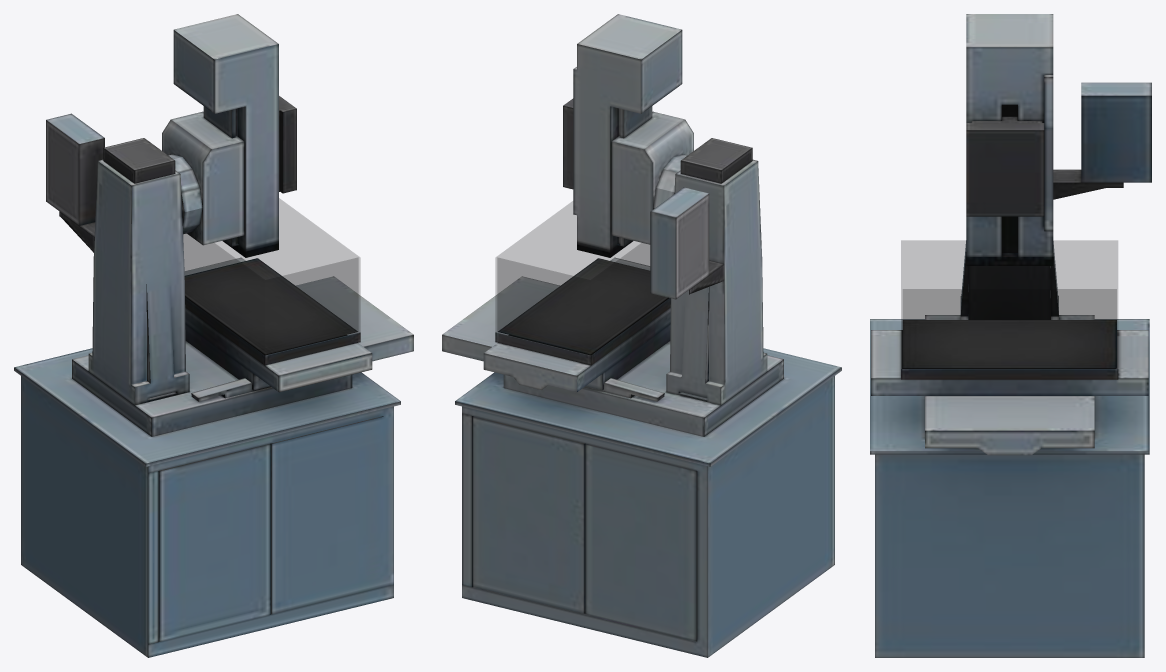
The picture shows the model from 3 angles, left to right: view 1: azimuth 30°, elevation 25°; view 2: azimuth 150°, elevation 25°; view 3: azimuth 270°, elevation 25°; orthographic projection. The views are drawn at different scales.
Parts seen in each view (by area): view 1: xia_3, shang_2, object 1, zhong_4; view 2: xia_3, shang_2, object 1, zhong_4; view 3: xia_3, shang_2, object 1, zhong_4.
Boxes of the visible parts, x1,y1,x2,y2 form: xia_3: (14, 113, 400, 657); shang_2: (72, 14, 413, 436); object 1: (183, 198, 360, 354); zhong_4: (59, 96, 360, 365); xia_3: (455, 187, 841, 657); shang_2: (442, 14, 783, 436); object 1: (495, 201, 668, 354); zhong_4: (495, 98, 752, 365); xia_3: (870, 82, 1151, 657); shang_2: (871, 14, 1148, 455); object 1: (901, 240, 1117, 368); zhong_4: (901, 116, 1123, 379).
Bounding box in the file's own units: 1.2 × 2.11 × 0.9404.
Materials: 4 (3 with a texture image).
